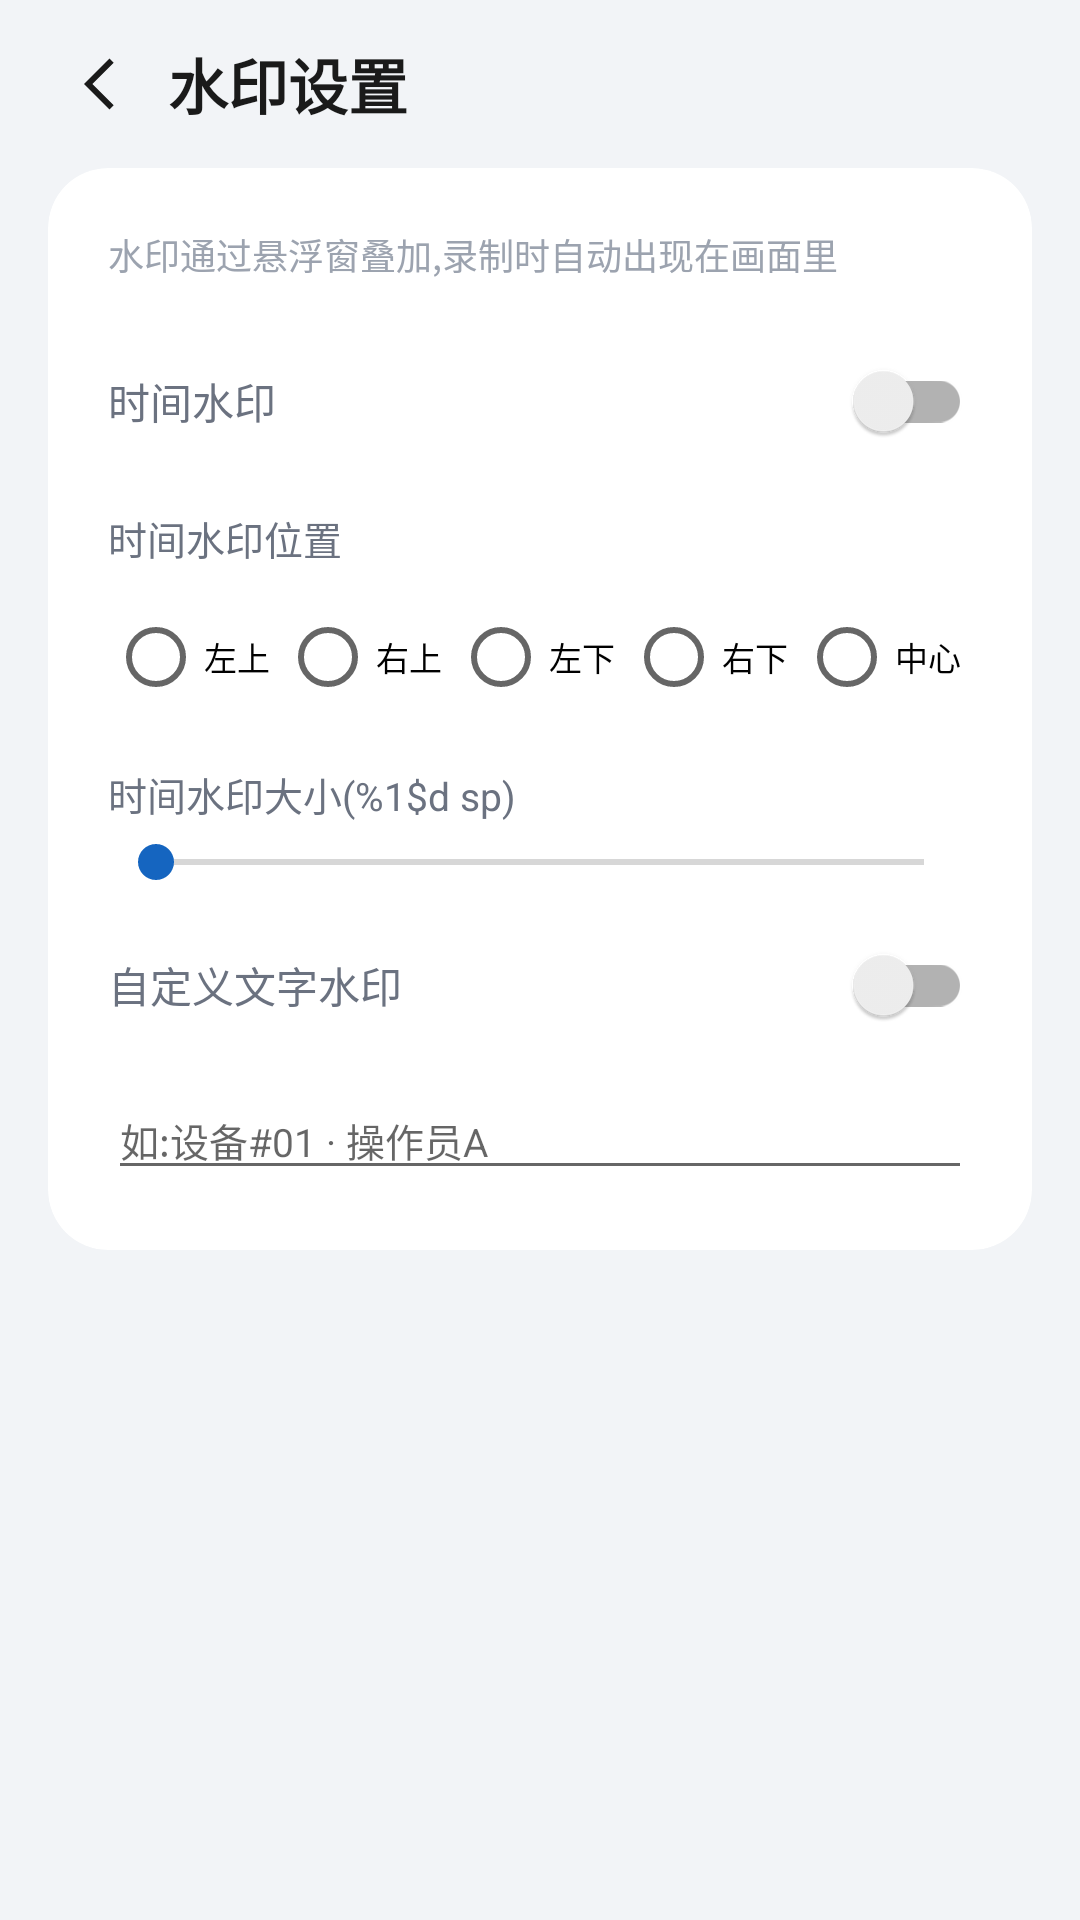

Named icons in this screenshot (1080*1920) and their centers, (x,y):
返回: (99,84)
